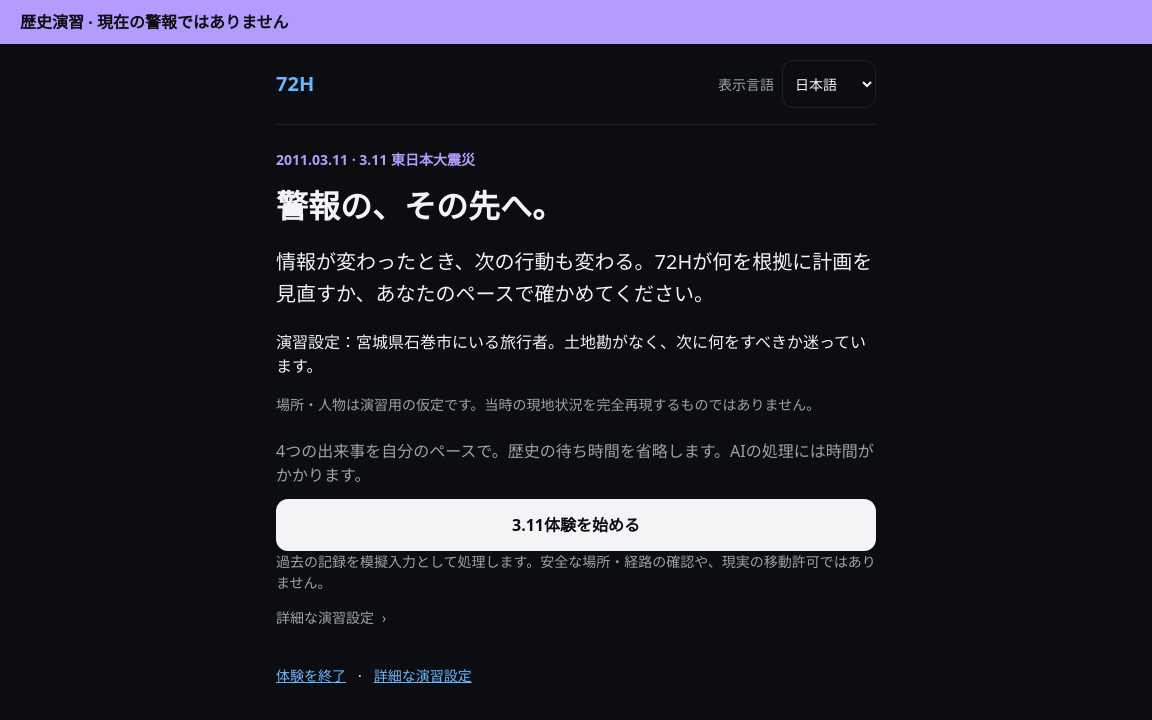
Test: 311 judge experience › rejects an event jump and requires a fresh run without showing that plan
Click the button with test id "judge-start" at [576, 525], box left=276, top=499, right=876, bottom=551
(page scrolled)
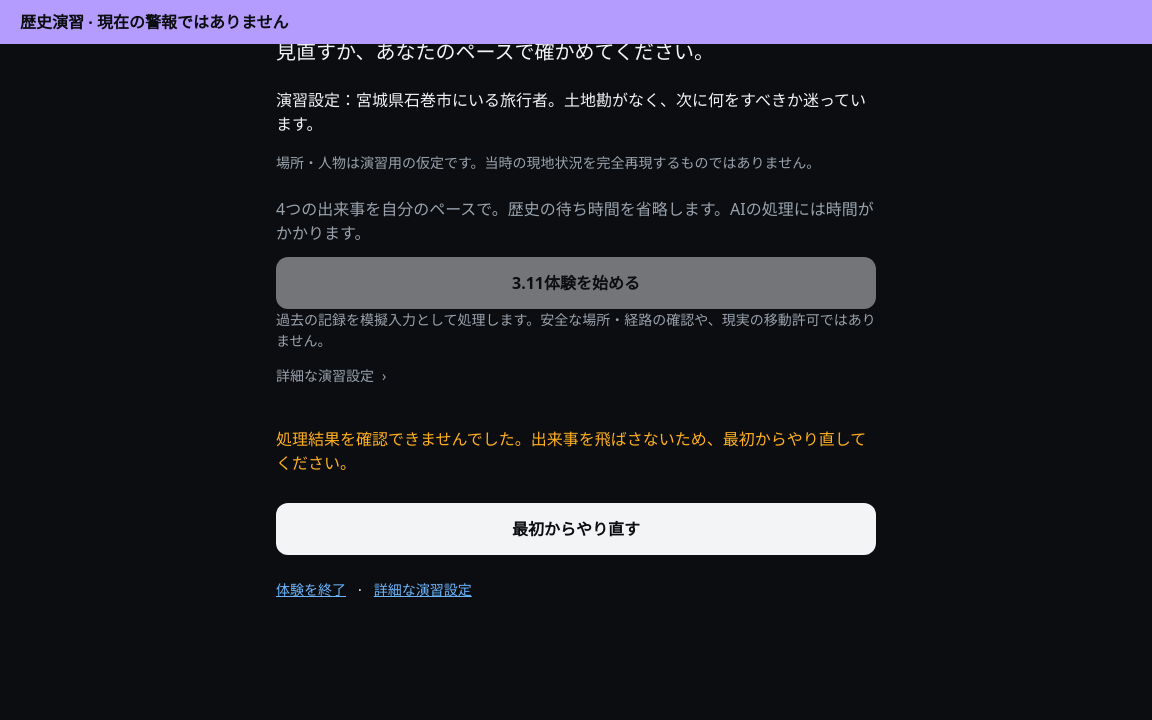
Expected: the message "処理結果を確認できませんでした。出来事を飛ばさないため、最初からやり直してください。" is shown, left=276, top=415, right=876, bottom=487
